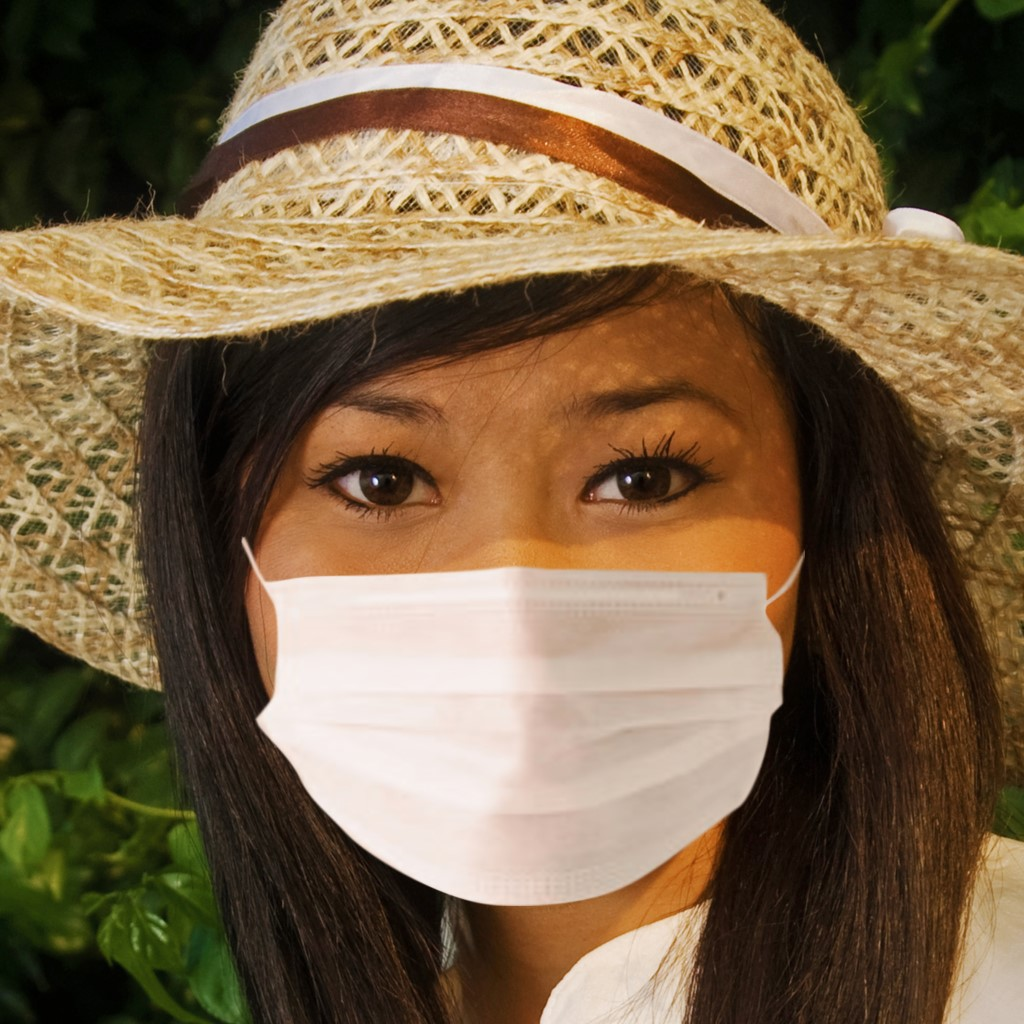con_mascara: (158, 193, 819, 928)
